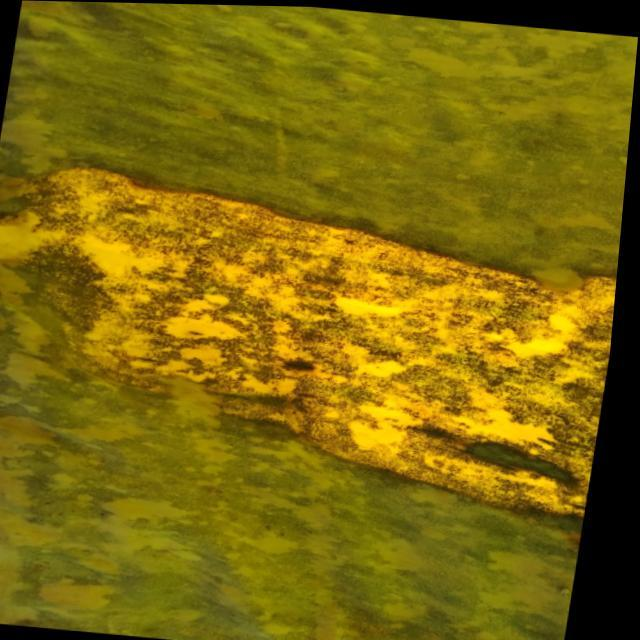Early_rust: (0, 105, 640, 573)
